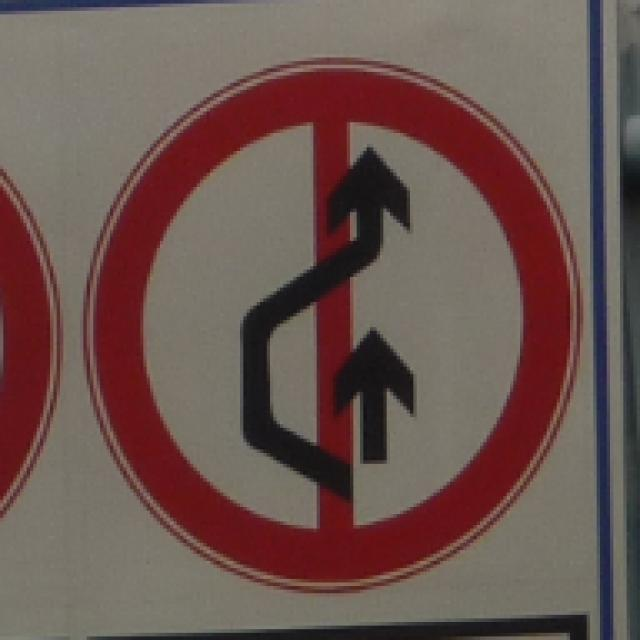Not that Direction: (82, 61, 590, 601)
